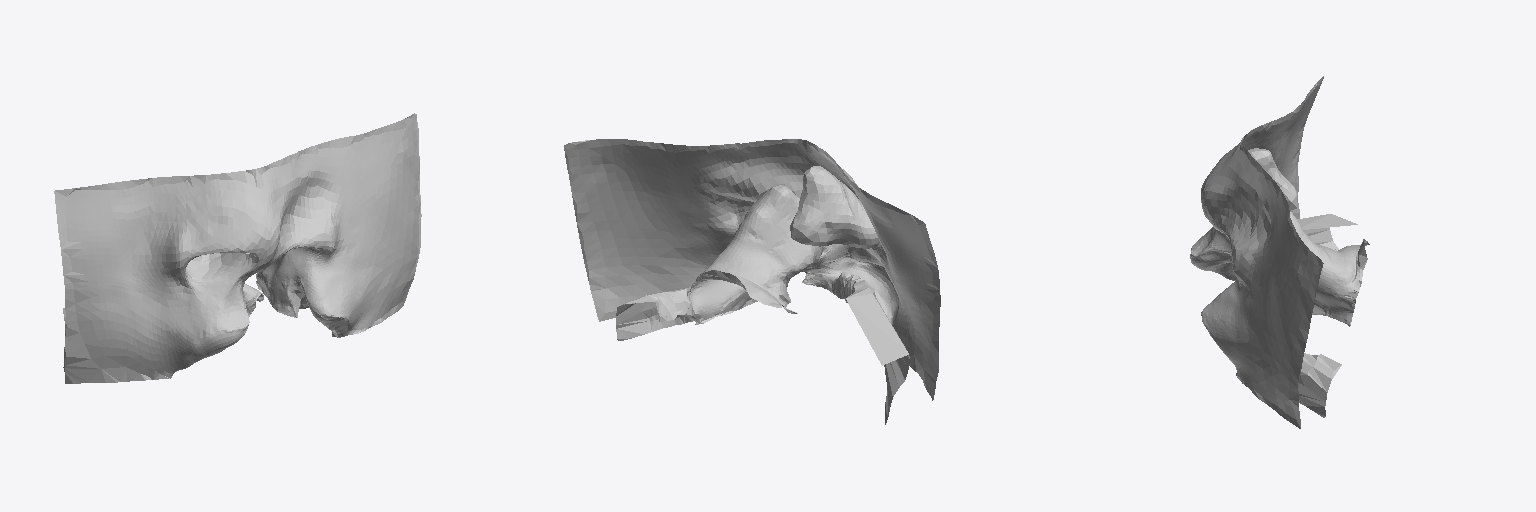
The model's file is cleftBag2_9_1_20_deepBed.obj.
3 views of the same model, side by side, from view 1: azimuth 30°, elevation 25°; view 2: azimuth 150°, elevation 25°; view 3: azimuth 270°, elevation 25° (orthographic).
Bounding box in the file's own units: 4.18 × 2.32 × 1.78.